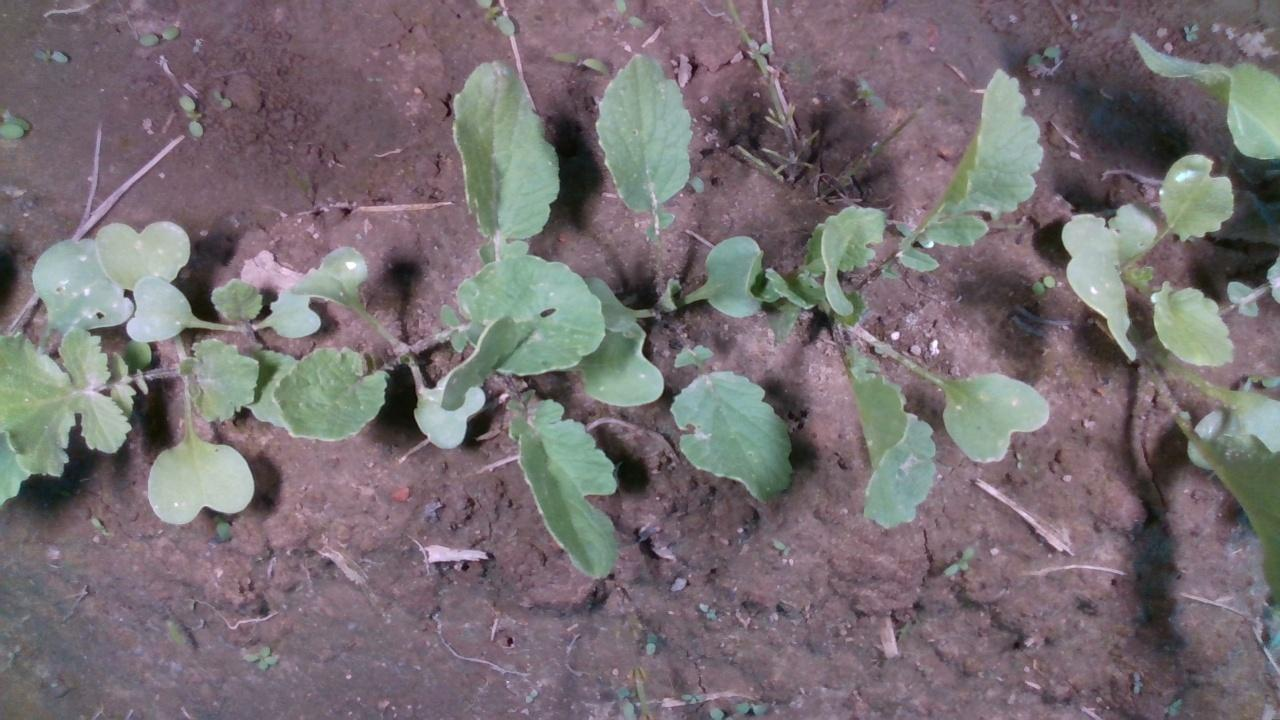weed: (548, 51, 610, 76), (176, 92, 203, 137), (239, 643, 279, 670), (941, 546, 974, 577), (137, 23, 179, 46), (1025, 43, 1064, 67), (89, 514, 114, 535), (1030, 274, 1056, 293), (33, 49, 68, 62), (211, 86, 231, 108), (642, 630, 656, 656), (1181, 22, 1200, 40)
